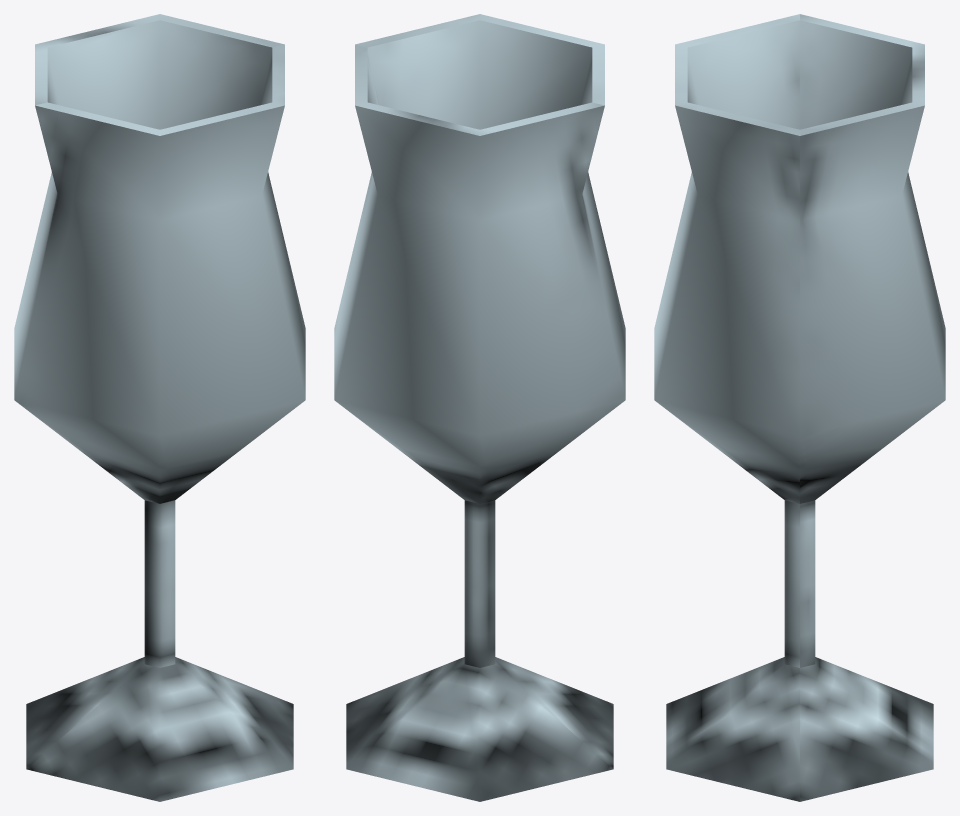
File: EmptyGlassV7.fbx
3 views of the same model, side by side, from view 1: azimuth 30°, elevation 25°; view 2: azimuth 150°, elevation 25°; view 3: azimuth 270°, elevation 25° (orthographic).
Parts seen in each view (by area): view 1: Glasses.007; view 2: Glasses.007; view 3: Glasses.007.
Part boxes in pixels (x1,y1,x2,y2): Glasses.007: [14, 14, 305, 801]; Glasses.007: [334, 14, 625, 801]; Glasses.007: [654, 14, 945, 801].
Size of the model in its own units: 0.1287 by 0.2791 by 0.1115.
